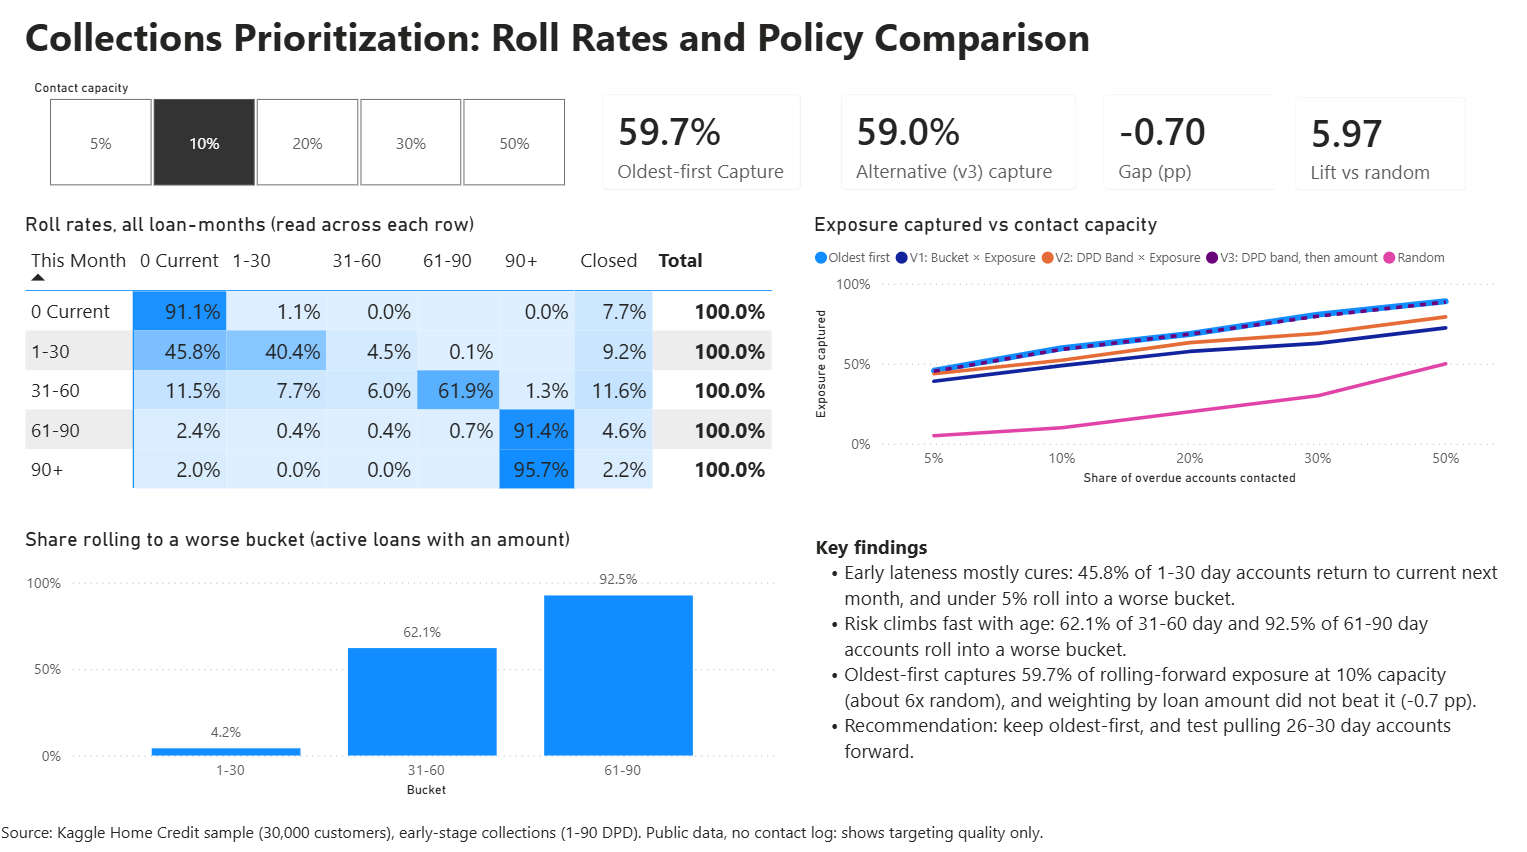

What the dashboard file says about the page in this screenshot:
{"tool":"powerbi","page":{"name":"Page 1","canvas":[1280,720],"ordinal":0},"visuals":[{"type":"textbox","box":[20,8,1240,55],"z":0},{"type":"slicer","fields":{"Values":["gain_table_v2.capacity_pct"]},"box":[20,66,480,100],"z":1000},{"type":"cardVisual","fields":{"Data":["gain_table_v2.Oldest-first Capture"]},"box":[489.4,66.7,200,114.9],"z":2000},{"type":"cardVisual","fields":{"Data":["gain_table_v2.Best Variant (v3) Capture"]},"box":[689.4,66.7,231.2,114.9],"z":3000},{"type":"cardVisual","fields":{"Data":["gain_table_v2.Gap vs Oldest-first (pp)"]},"box":[907.9,66.7,187.2,114.9],"z":4000},{"type":"cardVisual","fields":{"Data":["gain_table_v2.Oldest-first Lift"]},"box":[1068.2,69.5,177.3,112.1],"z":5000},{"type":"lineChart","title":"Exposure captured vs contact capacity","fields":{"Category":["gain_table_v2.capacity_pct"],"Y":["Sum(gain_table_v2.baseline_capture)","Sum(gain_table_v2.v1_bucket_x_exposure)","Sum(gain_table_v2.v2_dpdband_x_exposure)","Sum(gain_table_v2.v3_band_then_exposure)","Sum(gain_table_v2.random_capture)"]},"box":[679.5,181.6,580.2,232.6],"z":7000},{"type":"pivotTable","title":"Roll rates, all loan-months (read across each row)","fields":{"Rows":["roll_rates.bucket"],"Columns":["roll_rates.next_bucket"],"Values":["roll_rates.Roll Rate %"]},"box":[19.9,181.6,639.8,253.9],"z":7500},{"type":"clusteredColumnChart","title":"Share rolling to a worse bucket (active loans with an amount)","fields":{"Category":["bucket_summary.bucket"],"Y":["bucket_summary.Rolled to Worse Bucket %"]},"box":[20,445,640,230],"z":8000},{"type":"textbox","box":[0,685.7,941.4,34.3],"z":9000},{"type":"textbox","box":[680,445,580,230],"z":9001}]}

Visuals, with their boxes in screenshot pixels (x1, y1, x2, y2), scaled from the page's 1280x720 canvas onto the 1527x852 screenshot:
textbox: [24, 9, 1503, 75]
slicer - gain_table_v2.capacity_pct: [24, 78, 596, 196]
cardVisual - gain_table_v2.Oldest-first Capture: [584, 79, 822, 215]
cardVisual - gain_table_v2.Best Variant (v3) Capture: [822, 79, 1098, 215]
cardVisual - gain_table_v2.Gap vs Oldest-first (pp): [1083, 79, 1306, 215]
cardVisual - gain_table_v2.Oldest-first Lift: [1274, 82, 1486, 215]
"Exposure captured vs contact capacity" lineChart: [811, 215, 1503, 490]
"Roll rates, all loan-months (read across each row)" pivotTable: [24, 215, 787, 515]
"Share rolling to a worse bucket (active loans with an amount)" clusteredColumnChart: [24, 527, 787, 799]
textbox: [0, 811, 1123, 851]
textbox: [811, 527, 1503, 799]
